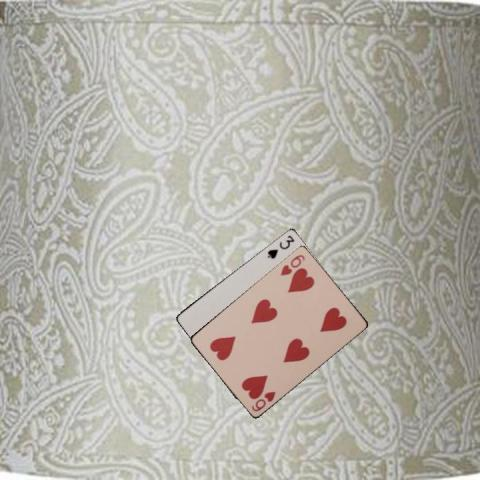3s: (265, 232, 296, 260)
6h: (277, 251, 307, 277), (249, 388, 277, 413)
